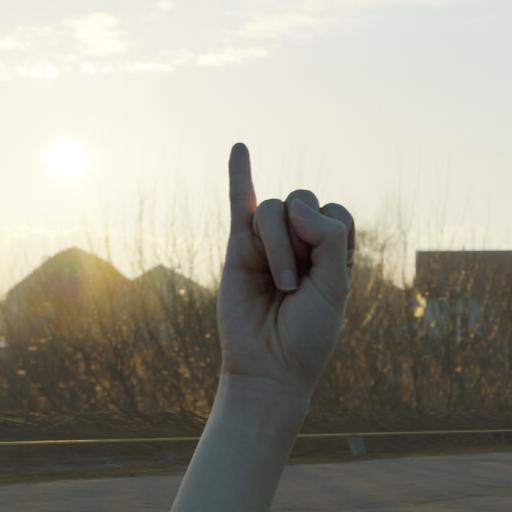I: (196, 130, 366, 395)
